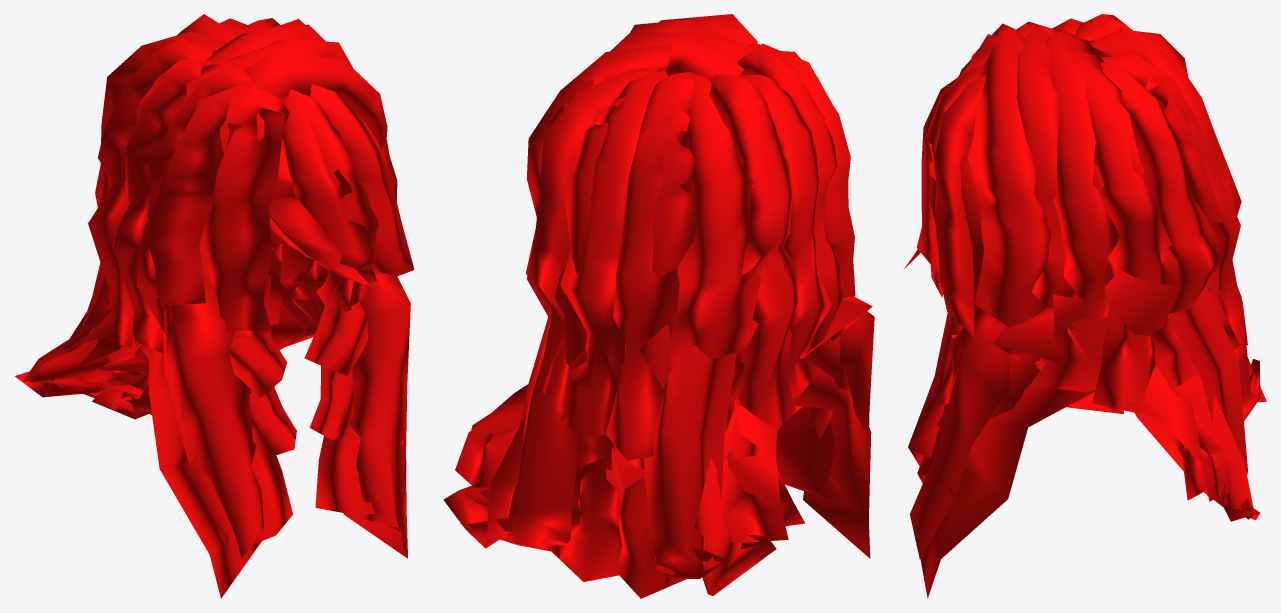
The model's file is punkduck_alpha7_long2_F.glb.
3 renders of one model, left to right at view 1: azimuth 30°, elevation 25°; view 2: azimuth 150°, elevation 25°; view 3: azimuth 270°, elevation 25°, orthographic. The views are drawn at different scales.
Bounding box in the file's own units: 0.335 × 0.514 × 0.3244.
Materials: 1 (1 with a texture image).
